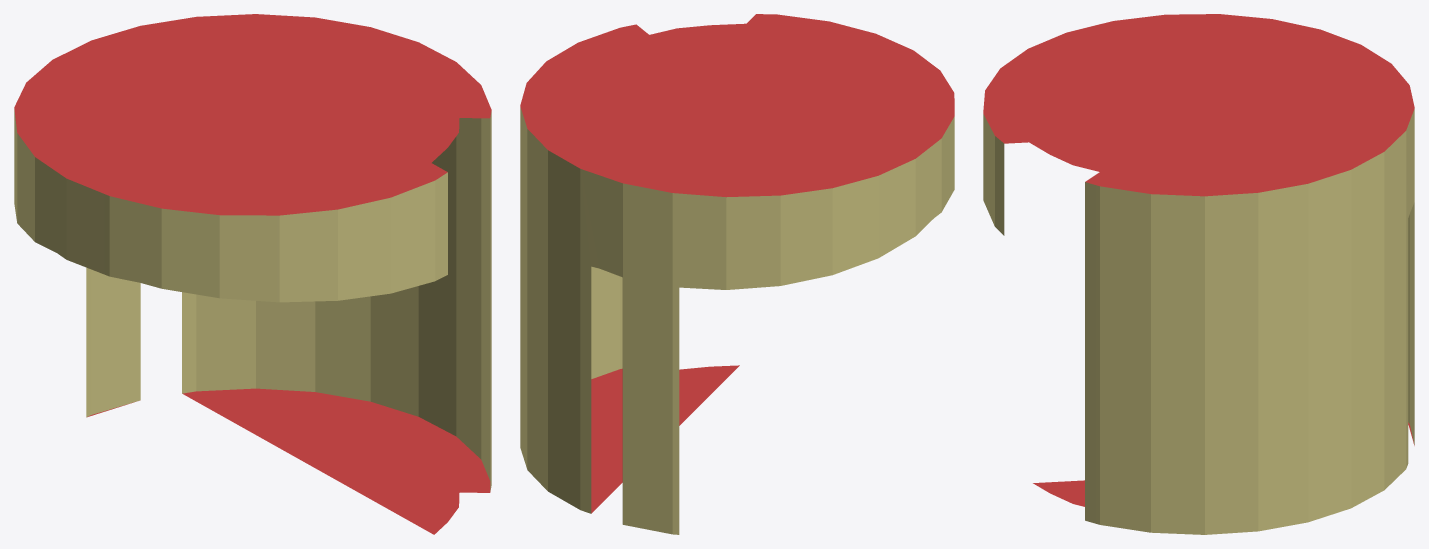
The picture shows the model from 3 angles, left to right: view 1: azimuth 30°, elevation 25°; view 2: azimuth 150°, elevation 25°; view 3: azimuth 270°, elevation 25°; orthographic projection. The views are drawn at different scales.
Bounding box in the file's own units: 10.25 × 10.25 × 8.88.
